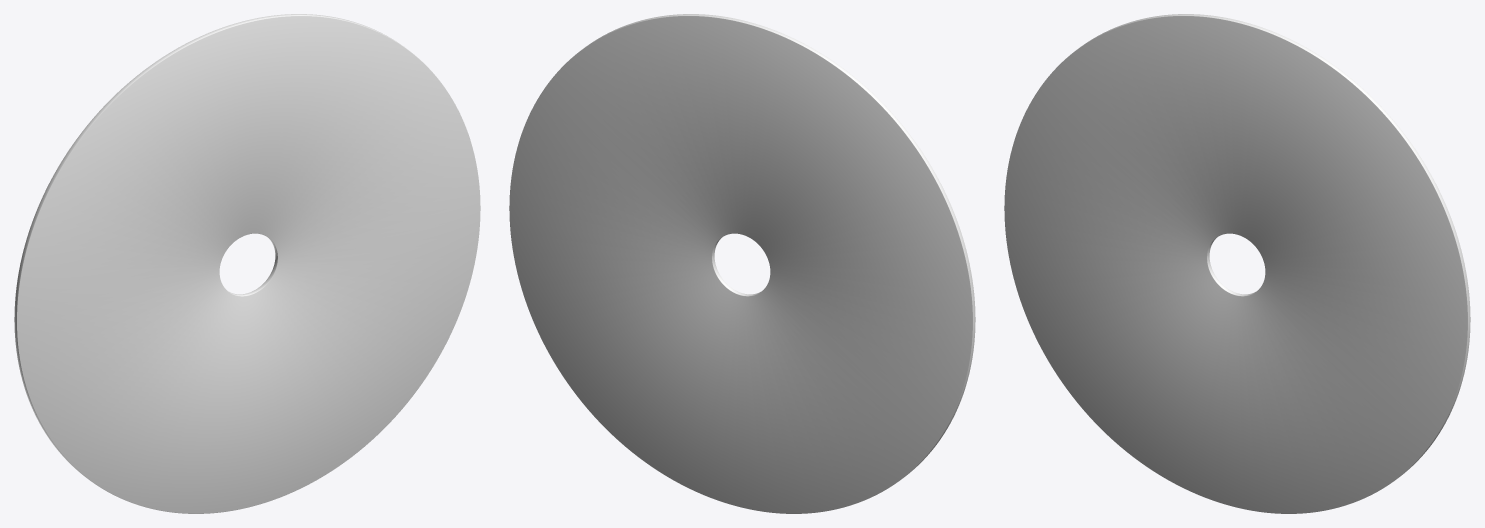
Rendered from disc.glb.
3 views of the same model, side by side, from view 1: azimuth 30°, elevation 25°; view 2: azimuth 150°, elevation 25°; view 3: azimuth 330°, elevation 25° (orthographic).
Visible parts, largest first — view 1: disc; view 2: disc; view 3: disc.
Part boxes in pixels (bbox=[...]): disc: bbox=[14, 14, 480, 513]; disc: bbox=[509, 14, 975, 513]; disc: bbox=[1004, 14, 1470, 513].
Size of the model in its own units: 0.12 by 0.12 by 0.0012.
Materials: 1 (1 with a texture image).
